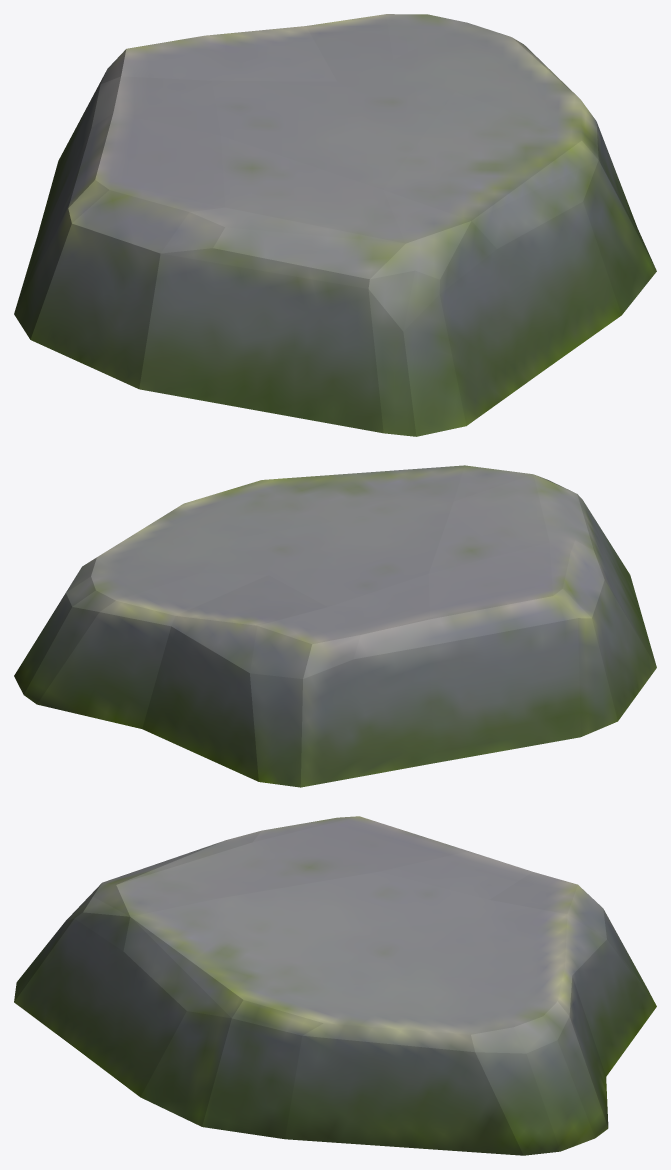
The model's file is pebble1.glb.
3 renders of one model, top to bottom at view 1: azimuth 30°, elevation 25°; view 2: azimuth 150°, elevation 25°; view 3: azimuth 270°, elevation 25°, orthographic. The views are drawn at different scales.
Visible parts, largest first — view 1: Pebble_Round_3; view 2: Pebble_Round_3; view 3: Pebble_Round_3.
Part boxes in pixels (box(x1,y1,x2,y2)): Pebble_Round_3: box(14, 14, 656, 436); Pebble_Round_3: box(14, 465, 656, 787); Pebble_Round_3: box(14, 816, 656, 1155).
Size of the model in its own units: 0.4497 by 0.0986 by 0.4848.
Materials: 1 (1 with a texture image).
